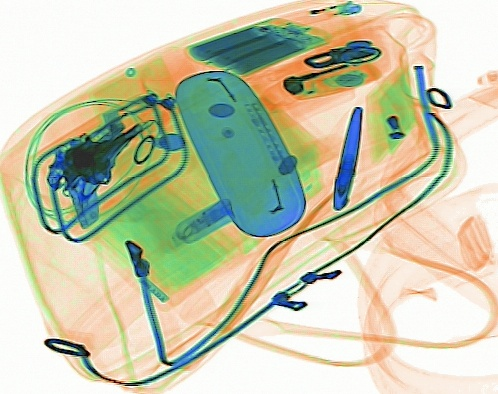lighter: (268, 0, 365, 37)
powerbank: (180, 14, 330, 78)
